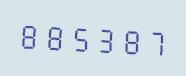eight: (17, 16, 41, 53), (42, 17, 66, 54), (118, 21, 142, 58)
five: (68, 18, 92, 55)
seven: (143, 22, 167, 59)
three: (93, 20, 117, 57)
